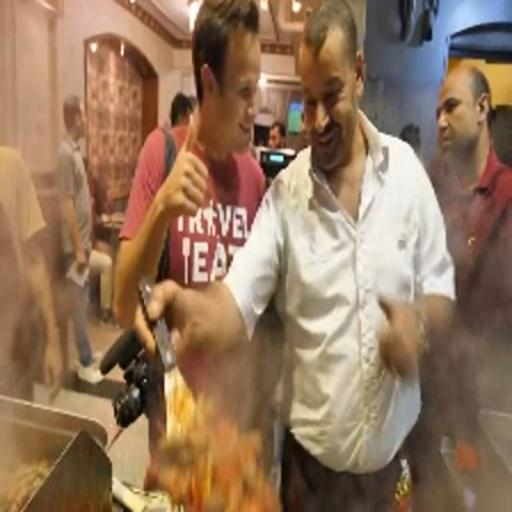nao-violencia: (98, 0, 458, 469)
